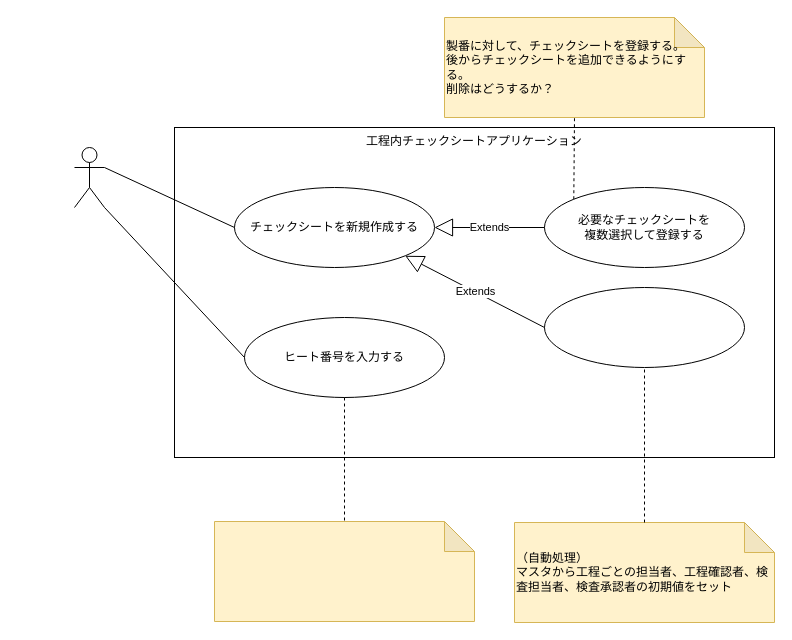
Some shapes in this 792 by 640 pixel diagram are drawn without their labels. The shapes that lost their labels are listed below. From the top down, each one's centre as x and y in pixels, then its label:
At point 89,177: "チェックシート新規登録者".
At point 644,327: "チェックシートに対して初期値をセットする".
At point 344,571: "入力はどの単位で行うか？ 何に紐づく情報？制作番号？ 絶対に存在するチェックシートは？".
